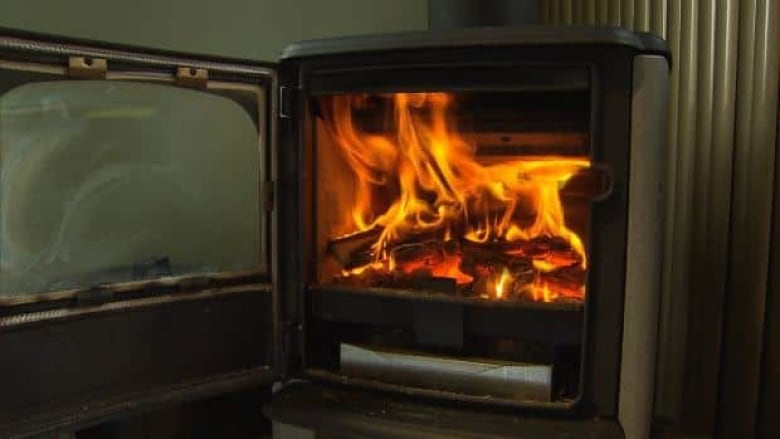stove: (30, 19, 675, 424)
